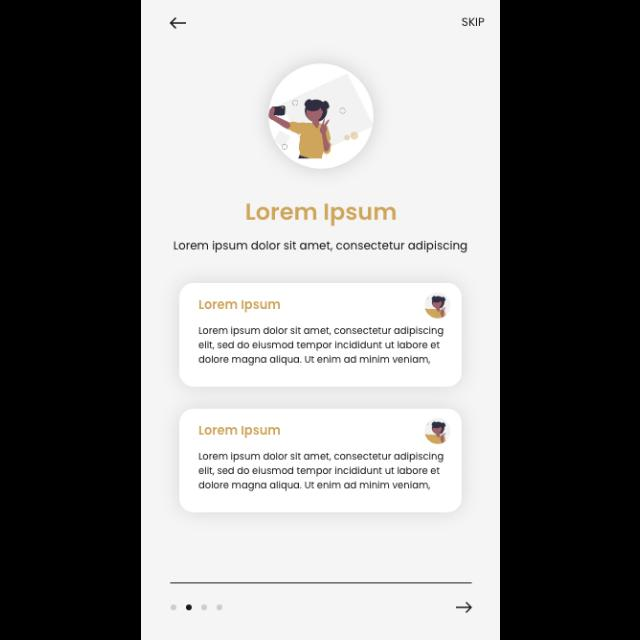icon: (170, 18, 186, 30), (456, 601, 472, 613)
image: (268, 64, 374, 170), (424, 293, 450, 319), (424, 419, 450, 445)
pageindicator: (170, 604, 223, 610)
panel: (178, 409, 462, 513), (179, 284, 463, 388)
text: (198, 326, 444, 366), (198, 452, 444, 492), (173, 241, 467, 253), (246, 204, 396, 226), (196, 422, 280, 438), (198, 300, 280, 314), (461, 18, 485, 28)
